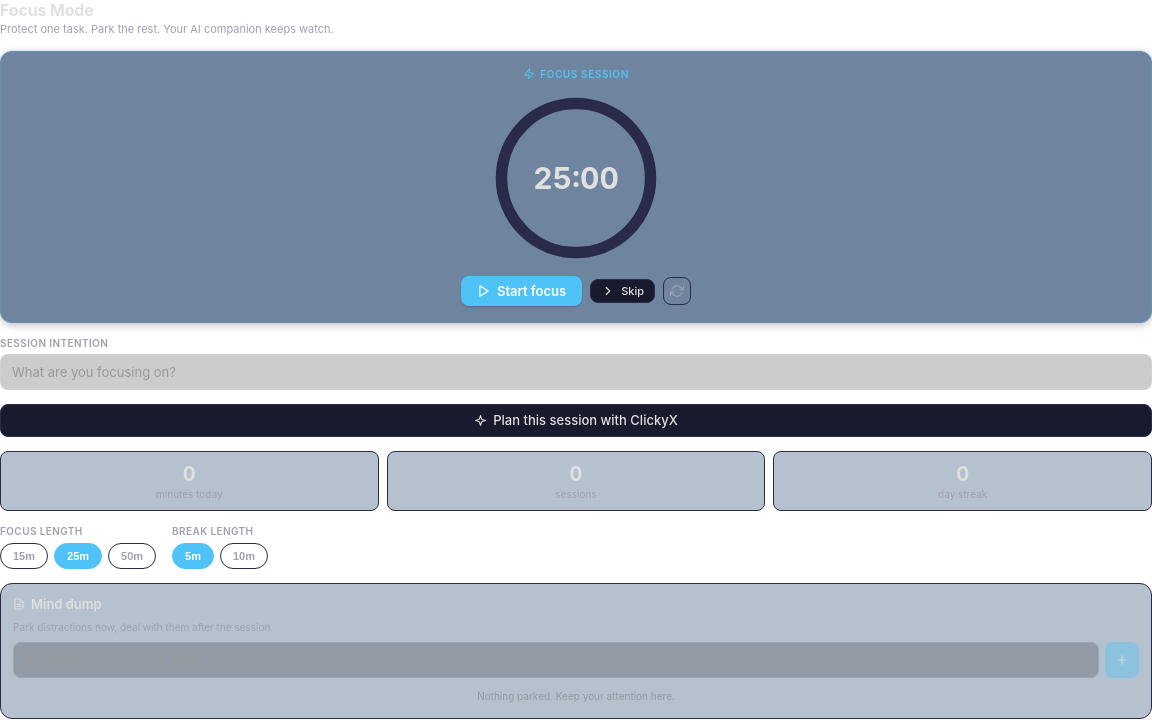
Test: FocusTab › parks and removes a distraction
Type "Email the client" into the field labelled "A thought you'll handle later…" at [556, 660], box [13, 642, 1099, 678]
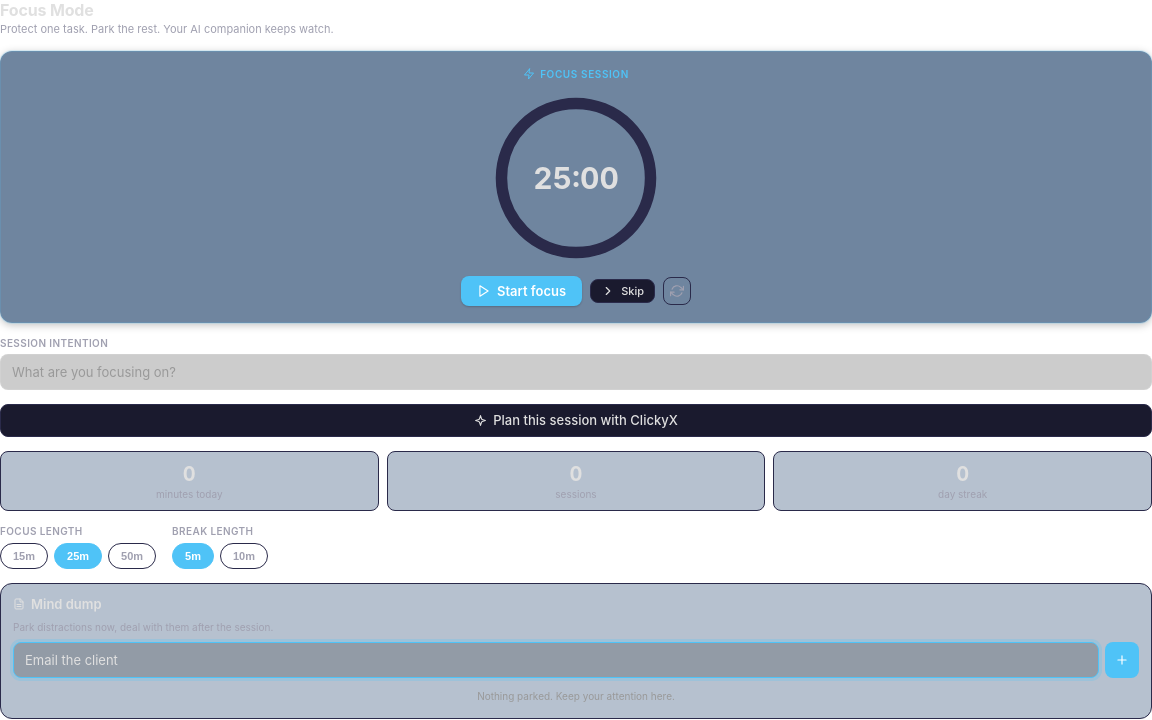
Click the button named "Park thought" at [1122, 660], box [1105, 642, 1139, 678]
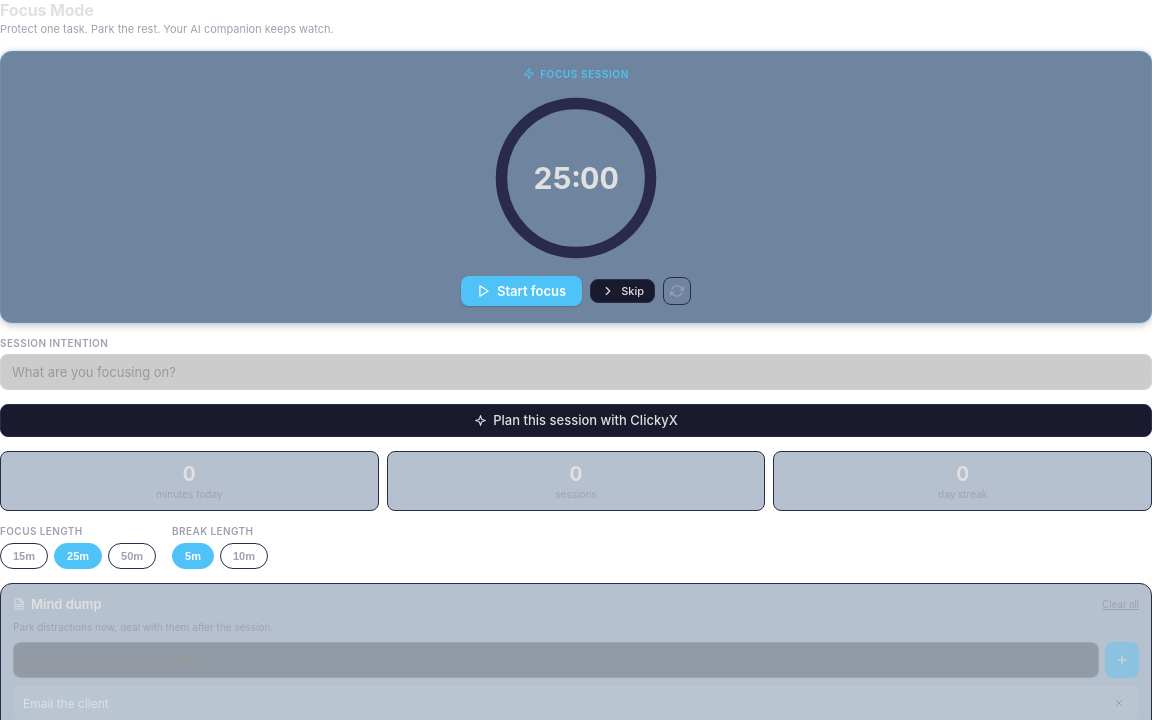
expect the text "Email the client" is shown: met, box [23, 696, 109, 711]
Click the button named "Remove parked thought" at [1119, 703], box [1109, 693, 1129, 713]
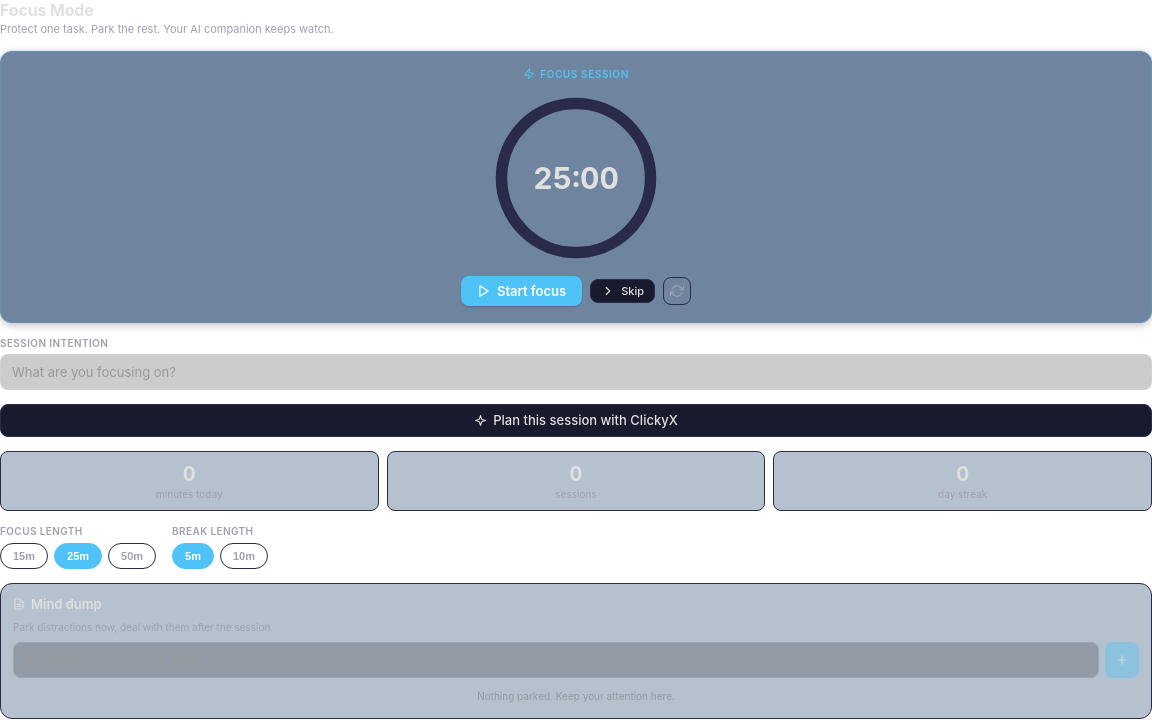
expect the text "Email the client" is gone: met
